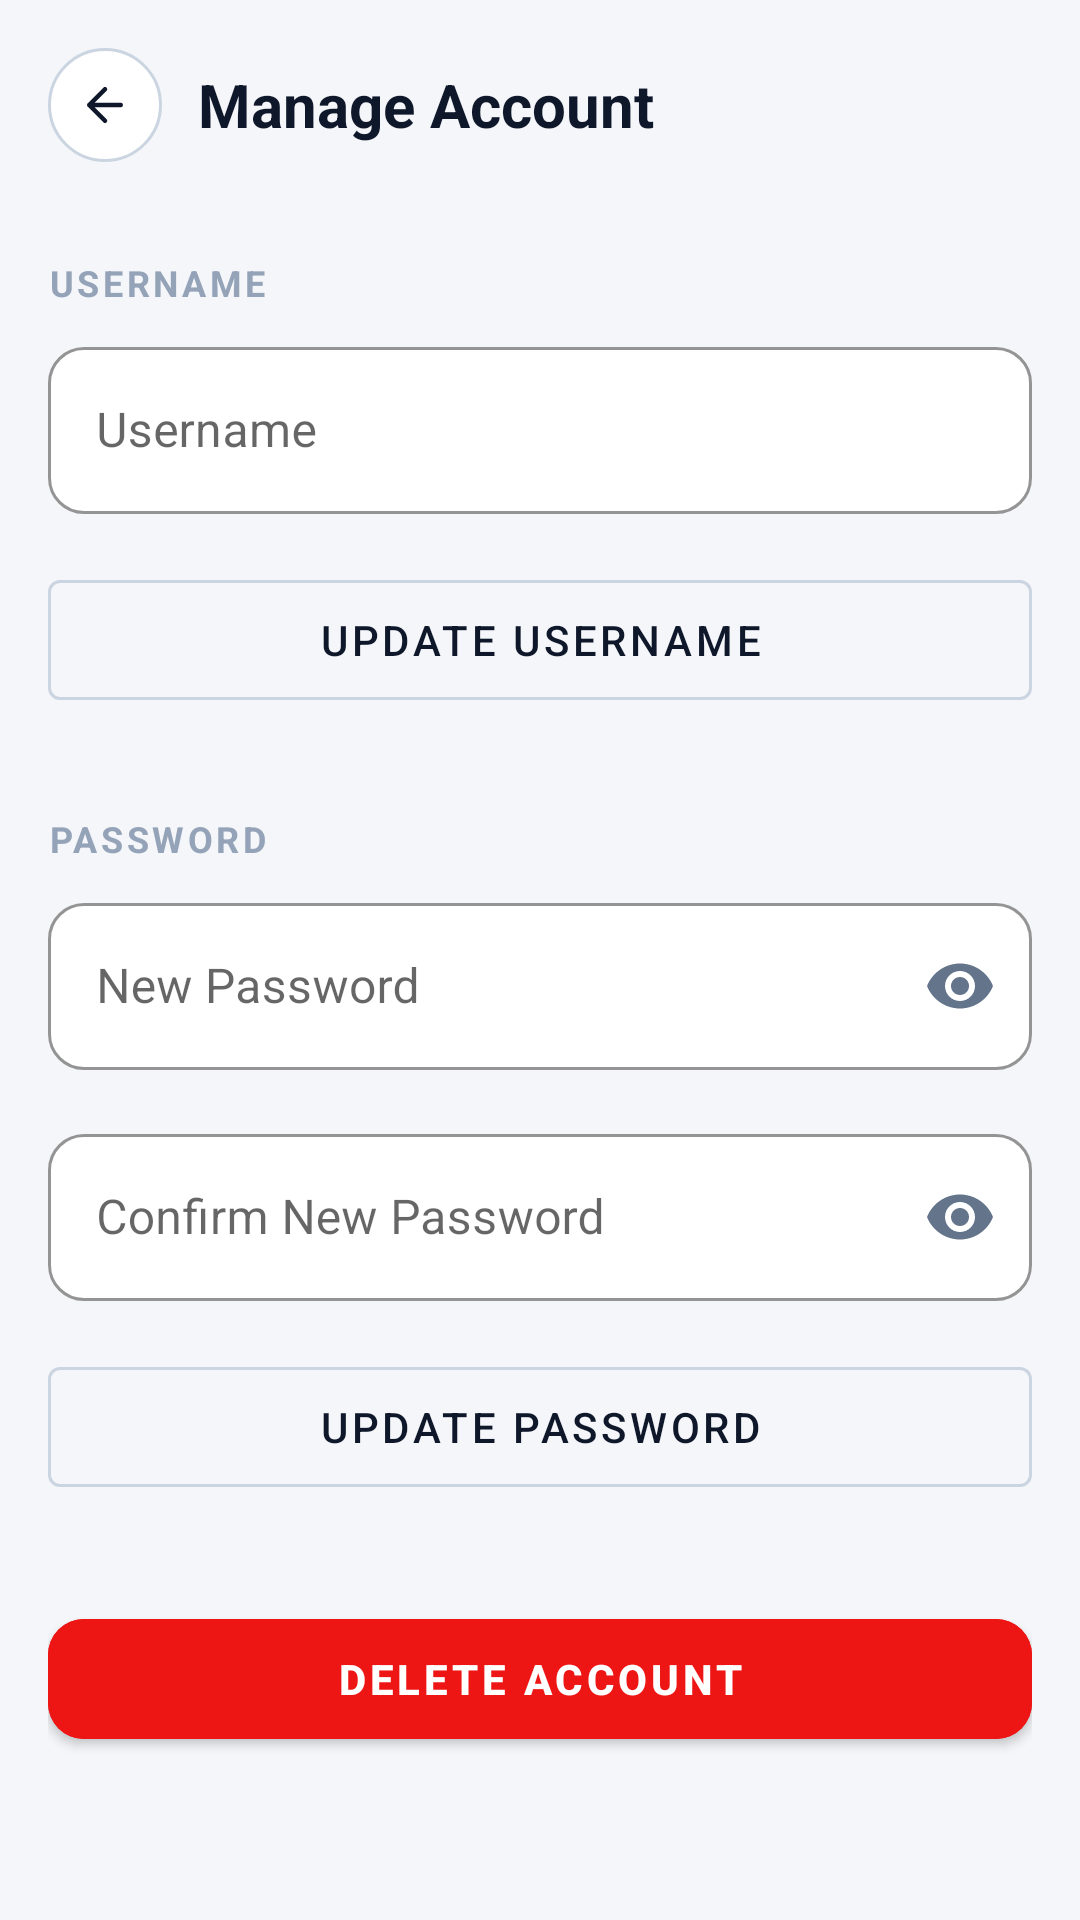

Icons on this 1080px x 1920px Android screen, each with the point to tap as (x=x, y=y):
Back: (x=105, y=105)
